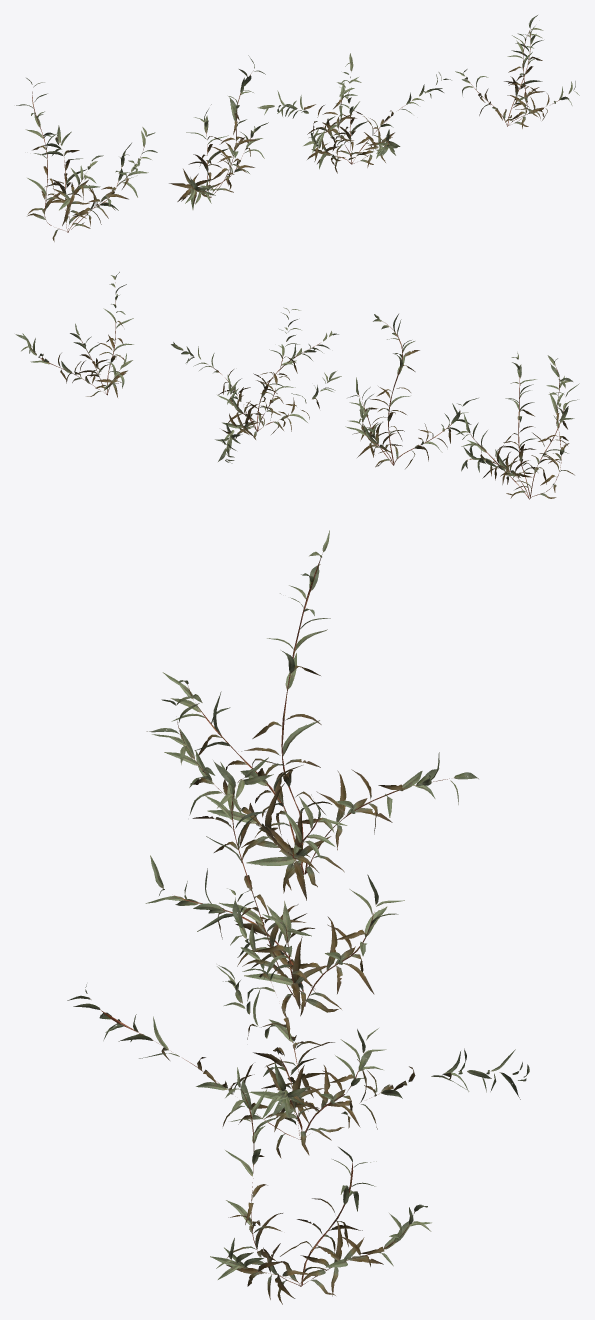
File: shrub_02.glb
3 renders of one model, top to bottom at view 1: azimuth 30°, elevation 25°; view 2: azimuth 150°, elevation 25°; view 3: azimuth 270°, elevation 25°, orthographic. The views are drawn at different scales.
Parts seen in each view (by area): view 1: shrub_02_a, shrub_02_c, shrub_02_b, shrub_02_d; view 2: shrub_02_a, shrub_02_c, shrub_02_b, shrub_02_d; view 3: shrub_02_a, shrub_02_c, shrub_02_b, shrub_02_d.
Part boxes in pixels (<box>): shrub_02_a: <box>16,78,157,241</box>; shrub_02_c: <box>257,53,451,173</box>; shrub_02_b: <box>169,55,268,209</box>; shrub_02_d: <box>455,15,579,128</box>; shrub_02_a: <box>456,352,579,499</box>; shrub_02_c: <box>171,307,341,463</box>; shrub_02_b: <box>345,314,478,468</box>; shrub_02_d: <box>15,272,133,397</box>; shrub_02_a: <box>146,530,478,900</box>; shrub_02_c: <box>67,888,529,1158</box>; shrub_02_b: <box>145,757,404,1017</box>; shrub_02_d: <box>210,1067,431,1304</box>.
Bounding box in the file's own units: 6.05 × 1.7 × 2.29.
1 material, 1 textured.
